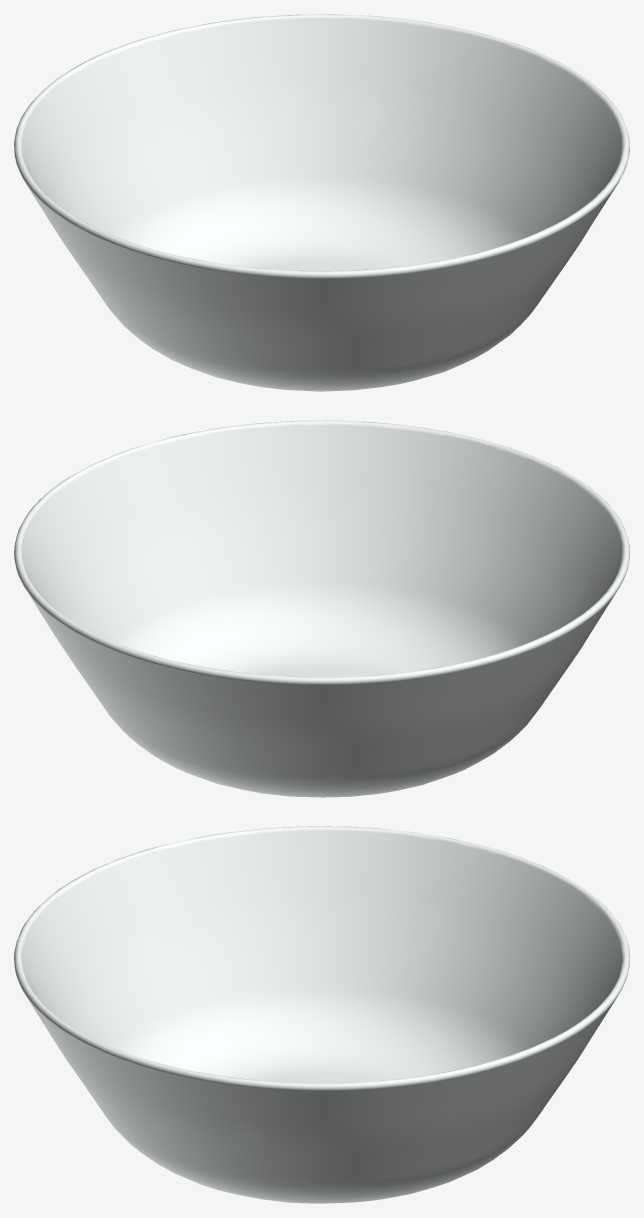
The model's file is oftast_miska_20439392.glb.
3 renders of one model, top to bottom at view 1: azimuth 30°, elevation 25°; view 2: azimuth 150°, elevation 25°; view 3: azimuth 270°, elevation 25°, orthographic.
Visible parts, largest first — view 1: oftast_miska_20439392; view 2: oftast_miska_20439392; view 3: oftast_miska_20439392.
Part boxes in pixels (left/top/right/bottom): oftast_miska_20439392: left=14, top=14, right=629, bottom=391; oftast_miska_20439392: left=14, top=420, right=629, bottom=797; oftast_miska_20439392: left=14, top=826, right=629, bottom=1203.
Size of the model in its own units: 0.225 by 0.0738 by 0.2249.
1 material, 1 textured.
